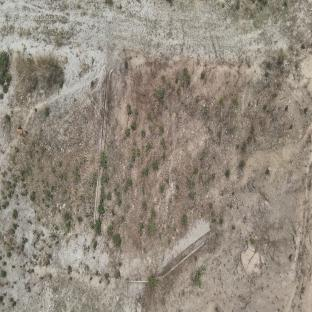slope_drain: (92, 69, 110, 226)
toe_drain: (116, 229, 213, 283)
